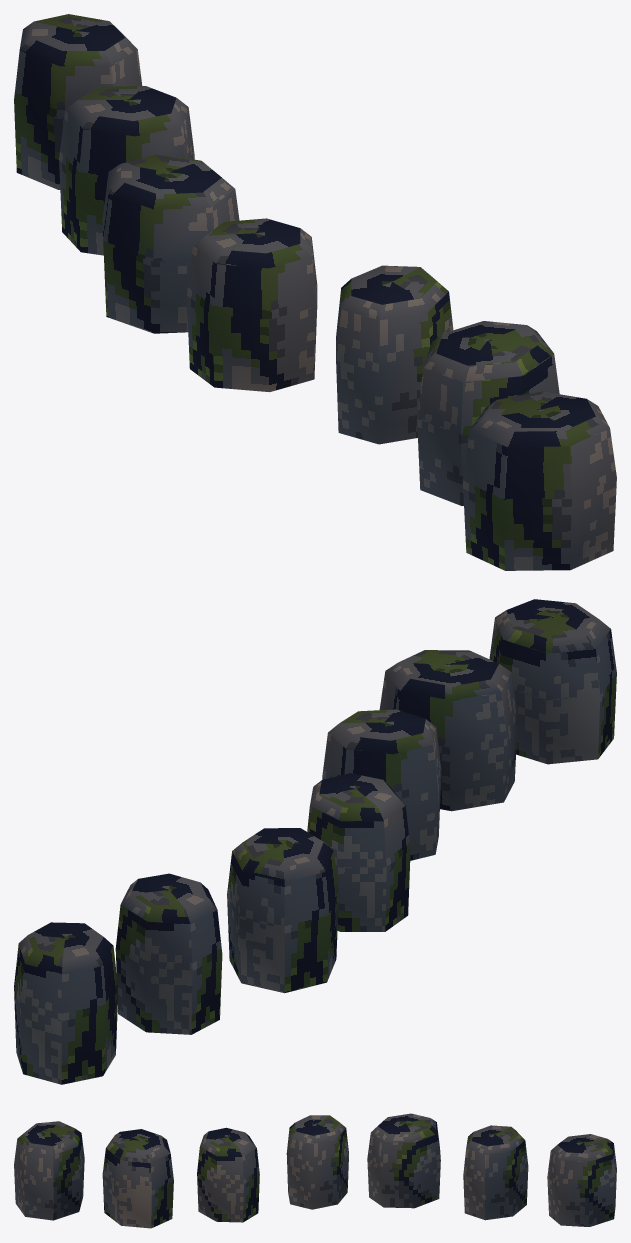
File: lake.bridge.glb
The picture shows the model from 3 angles, top to bottom: view 1: azimuth 30°, elevation 25°; view 2: azimuth 150°, elevation 25°; view 3: azimuth 270°, elevation 25°; orthographic projection. The views are drawn at different scales.
Parts seen in each view (by area): view 1: kit_stones; view 2: kit_stones; view 3: kit_stones.
Part boxes in pixels (bbox=[...]): kit_stones: bbox=[14, 14, 616, 570]; kit_stones: bbox=[14, 599, 616, 1084]; kit_stones: bbox=[14, 1113, 616, 1228].
Size of the model in its own units: 1.5 by 1.02 by 7.75.
1 material, 1 textured.
